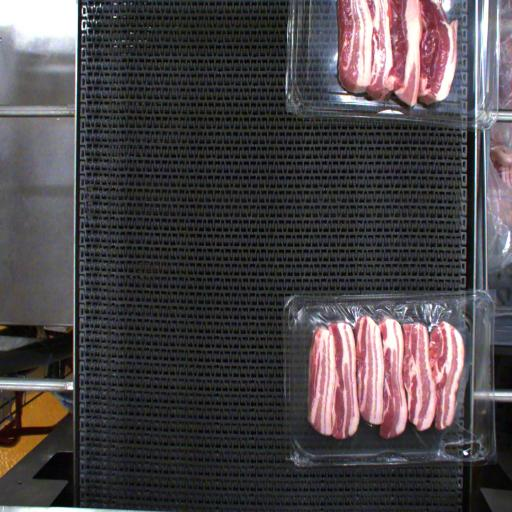unsealed: (284, 290, 494, 453)
